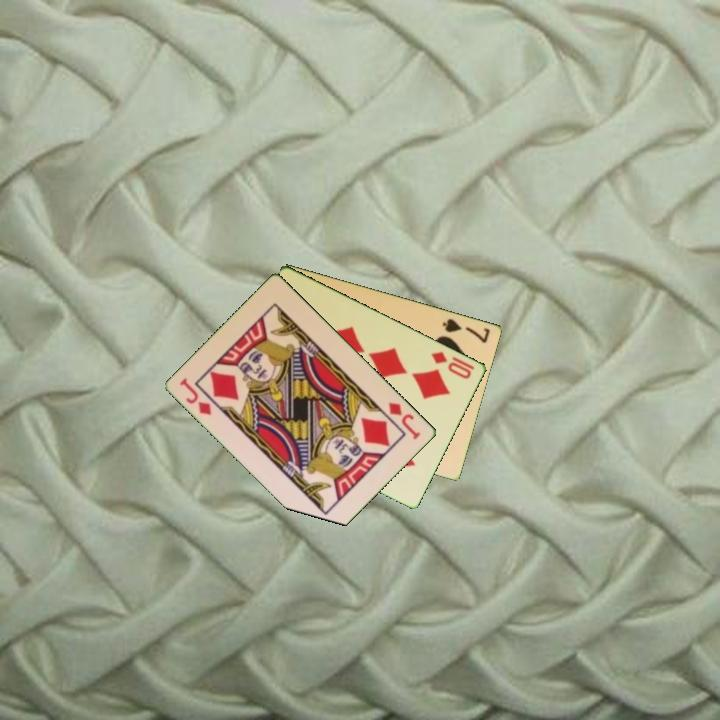10d: (428, 348, 478, 382)
7s: (439, 315, 493, 346)
Jd: (385, 398, 424, 443), (176, 374, 215, 418)
